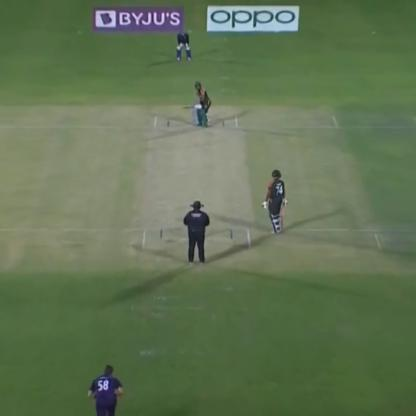pitch: (138, 119, 249, 262)
